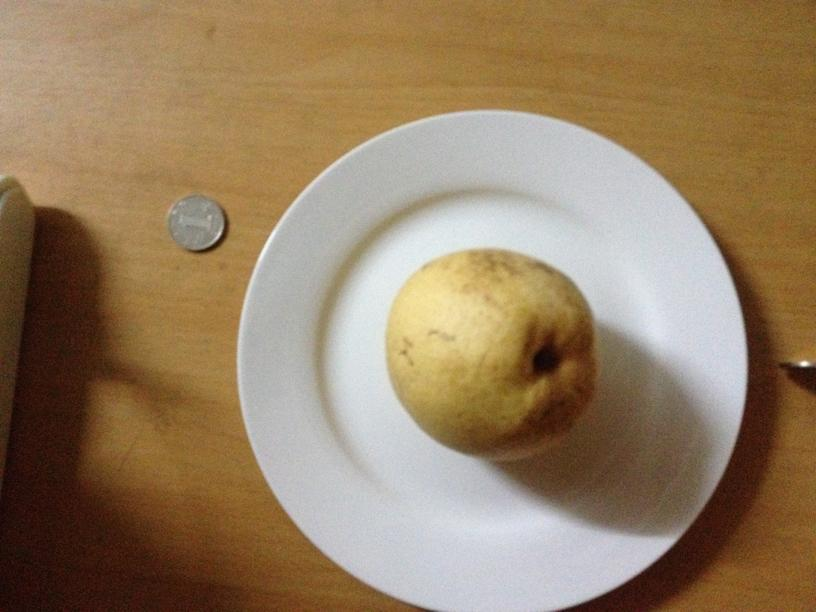coin: (167, 194, 226, 252)
pear: (381, 249, 599, 465)
